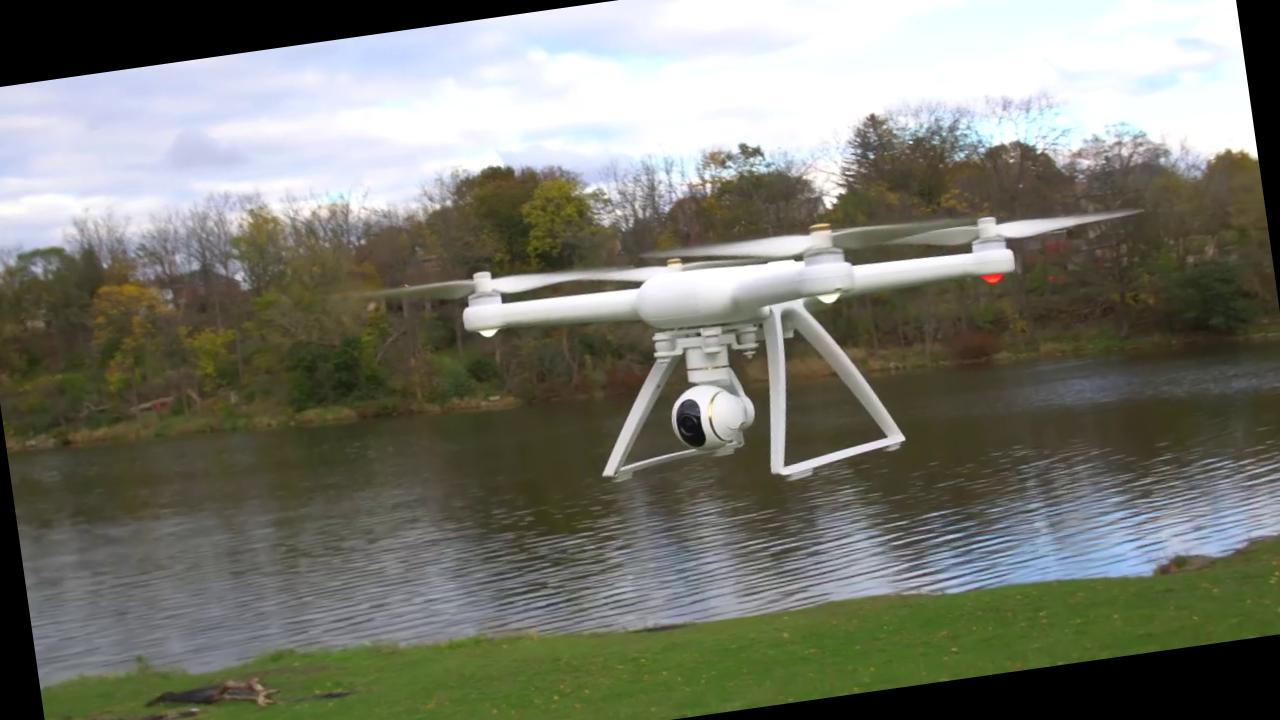drone: (364, 159, 1134, 442)
